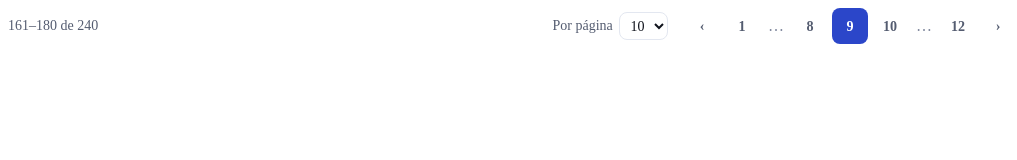
Test: BdPaginationComponent › volta ao início ao trocar o tamanho da página
Select "50" in the dropdown labelled "Por página" at (644, 26), box [619,12,668,40]
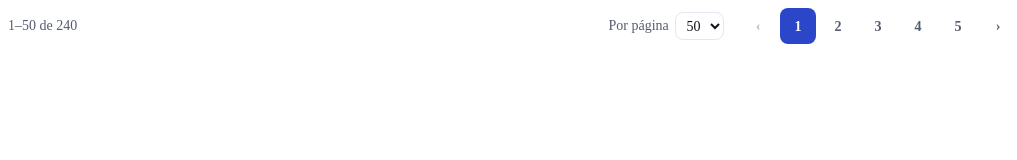
Result: the text with class "bd-pagination__summary" reads "1–50 de 240" at [8,18,77,33]
